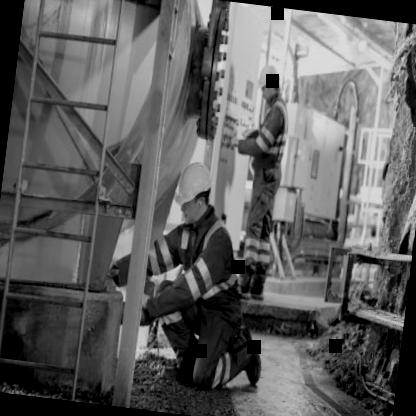helmet: (172, 155, 217, 228), (253, 60, 283, 110)
